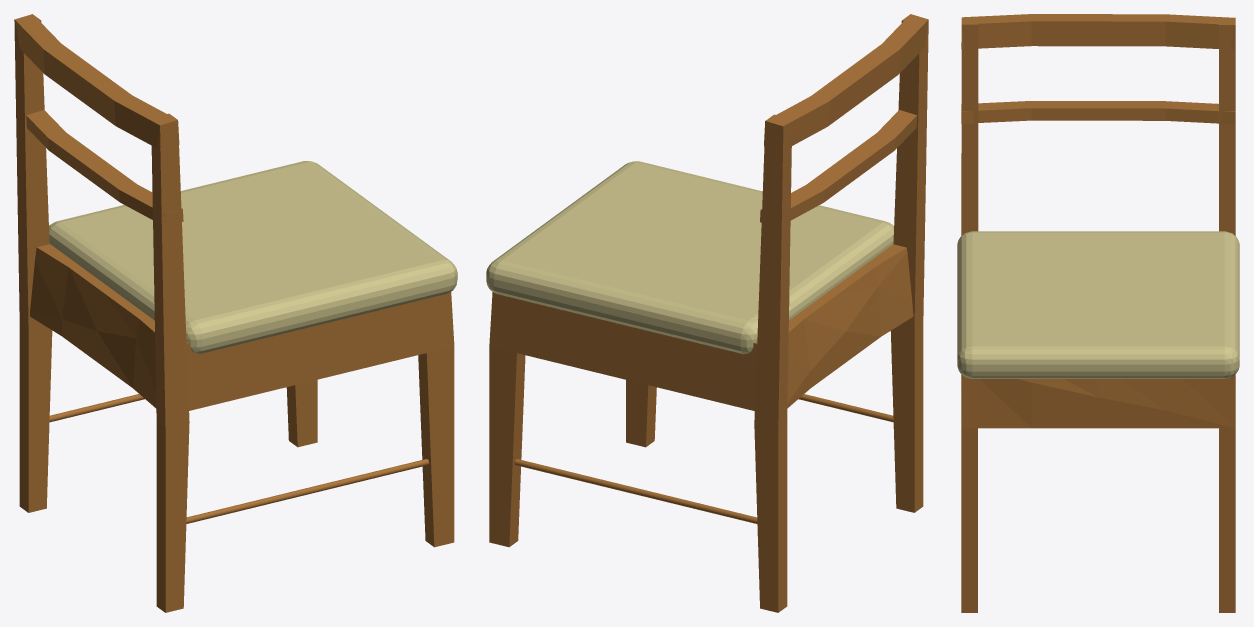
The model's file is chair.dae.
The picture shows the model from 3 angles, left to right: view 1: azimuth 30°, elevation 25°; view 2: azimuth 150°, elevation 25°; view 3: azimuth 270°, elevation 25°; orthographic projection. The views are drawn at different scales.
Visible parts, largest first — view 1: obj1 (×8), obj2; view 2: obj1 (×8), obj2; view 3: obj2, obj1 (×6).
Boxes of the visible parts, bbox=[...] form: obj1 (×8): bbox=[14, 14, 454, 612]; obj2: bbox=[49, 161, 457, 353]; obj1 (×8): bbox=[489, 14, 928, 612]; obj2: bbox=[486, 161, 893, 354]; obj2: bbox=[957, 231, 1239, 378]; obj1 (×6): bbox=[961, 14, 1235, 612].
Bounding box in the file's own units: 18.41 × 15.45 × 27.84.
